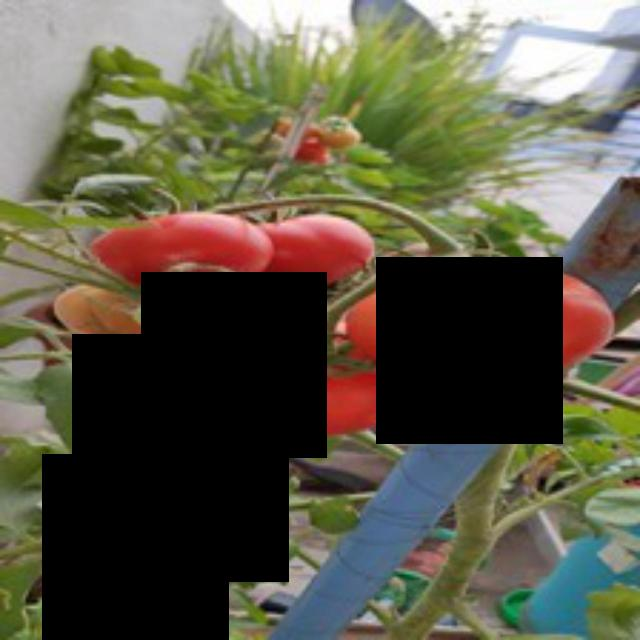tomato: (337, 264, 617, 384)
